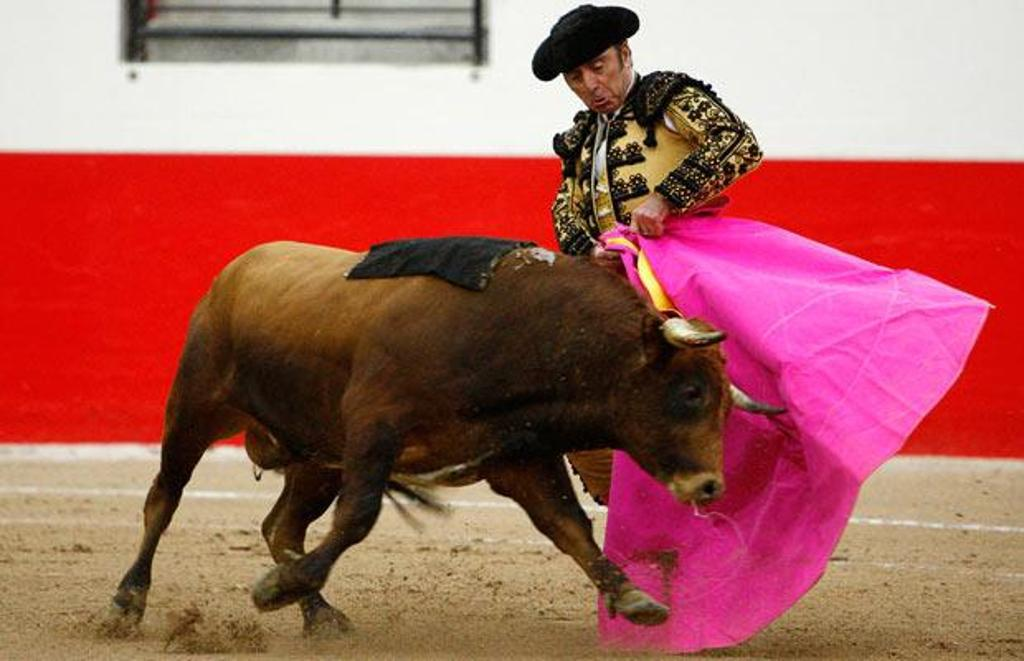face: (565, 41, 623, 121)
